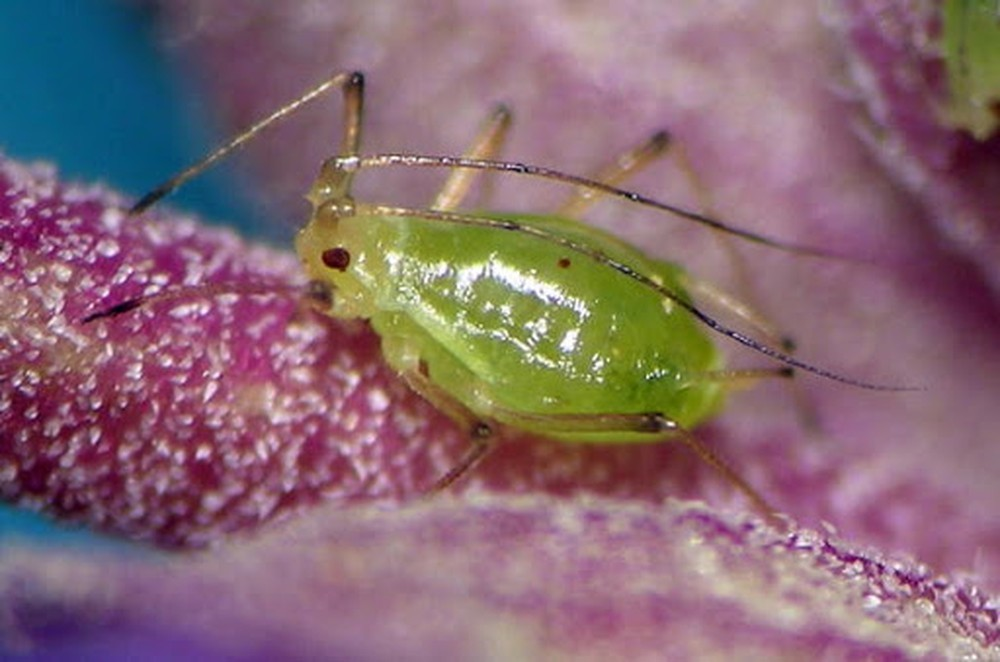Pulgon: (210, 66, 828, 534)
